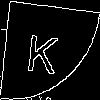K: (24, 25, 61, 75)
